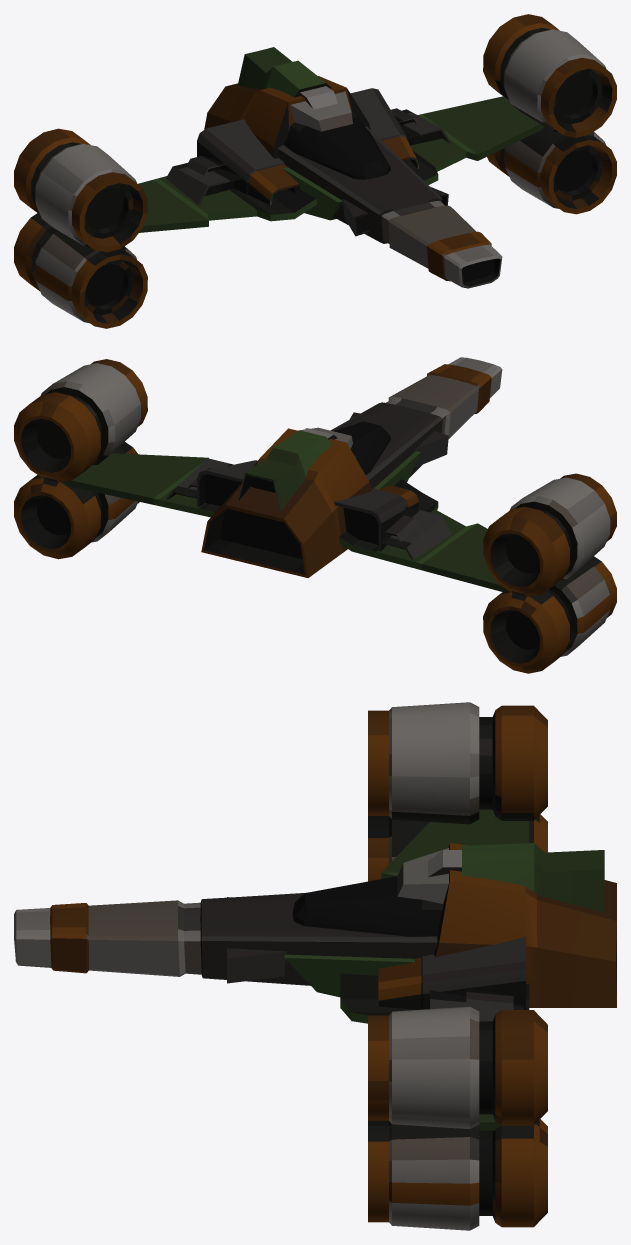
Rendered from spitfire.obj.
The picture shows the model from 3 angles, top to bottom: view 1: azimuth 30°, elevation 25°; view 2: azimuth 150°, elevation 25°; view 3: azimuth 270°, elevation 25°; orthographic projection. The views are drawn at different scales.
Parts seen in each view (by area): view 1: Spitfire_Cube.017; view 2: Spitfire_Cube.017; view 3: Spitfire_Cube.017.
Part boxes in pixels (box(x1,y1,x2,y2)): Spitfire_Cube.017: box(14, 14, 616, 328); Spitfire_Cube.017: box(14, 357, 616, 673); Spitfire_Cube.017: box(14, 702, 616, 1230).
Size of the model in its own units: 10.52 by 3.06 by 7.53.
